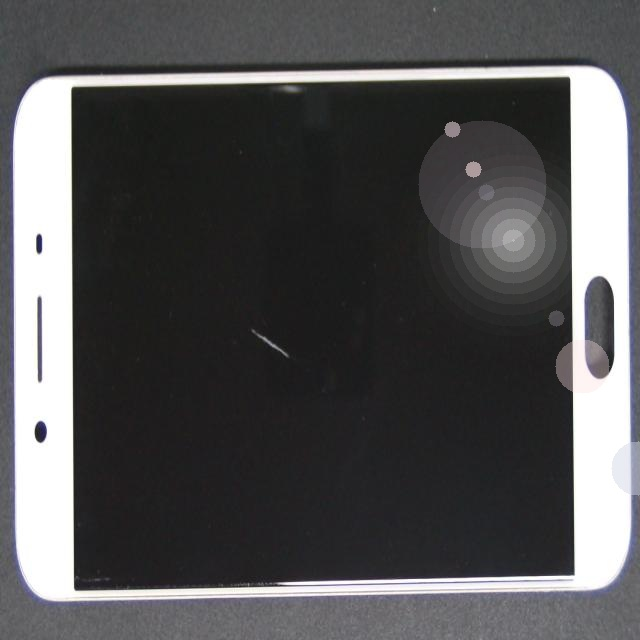scratch: (106, 131, 386, 505)
